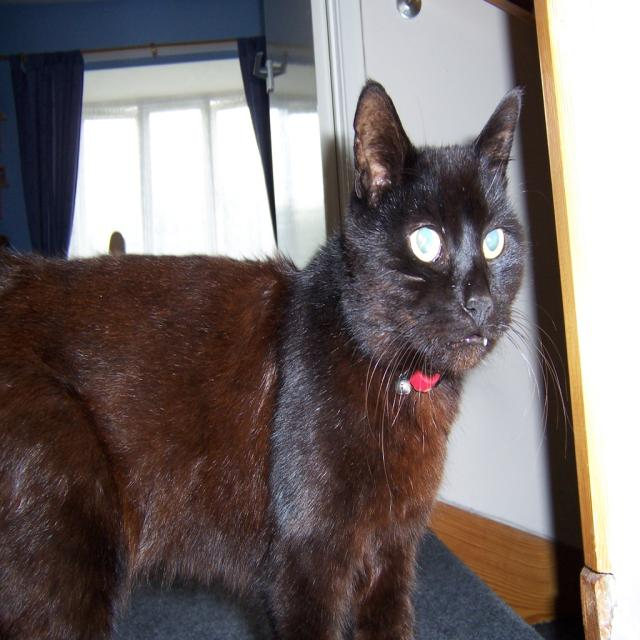Cat: (0, 72, 572, 638)
